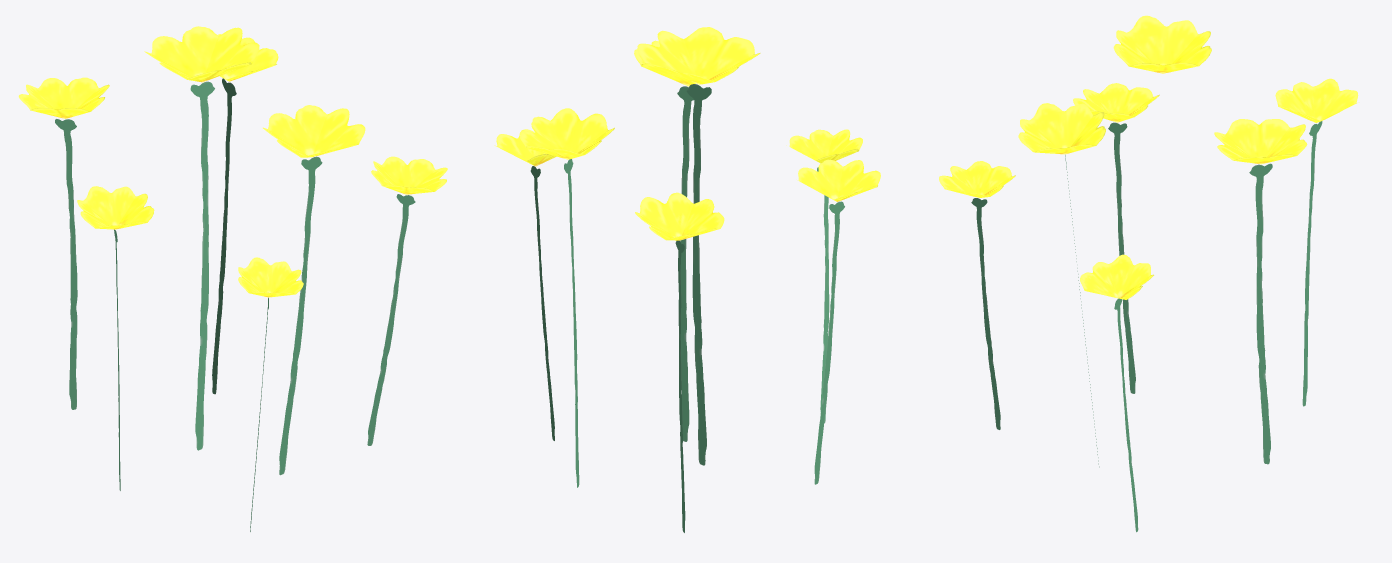
File: SM_ENV_flower_ancient_03.fbx
3 views of the same model, side by side, from view 1: azimuth 30°, elevation 25°; view 2: azimuth 150°, elevation 25°; view 3: azimuth 270°, elevation 25° (orthographic). The views are drawn at different scales.
Parts seen in each view (by area): view 1: SM_ENV_flower_ancient_03_LOD0; view 2: SM_ENV_flower_ancient_03_LOD0; view 3: SM_ENV_flower_ancient_03_LOD0.
Boxes of the visible parts, bbox=[...] form: SM_ENV_flower_ancient_03_LOD0: bbox=[18, 26, 447, 531]; SM_ENV_flower_ancient_03_LOD0: bbox=[494, 27, 880, 532]; SM_ENV_flower_ancient_03_LOD0: bbox=[939, 15, 1358, 532].
Bounding box in the file's own units: 37.21 × 40.24 × 38.2.
